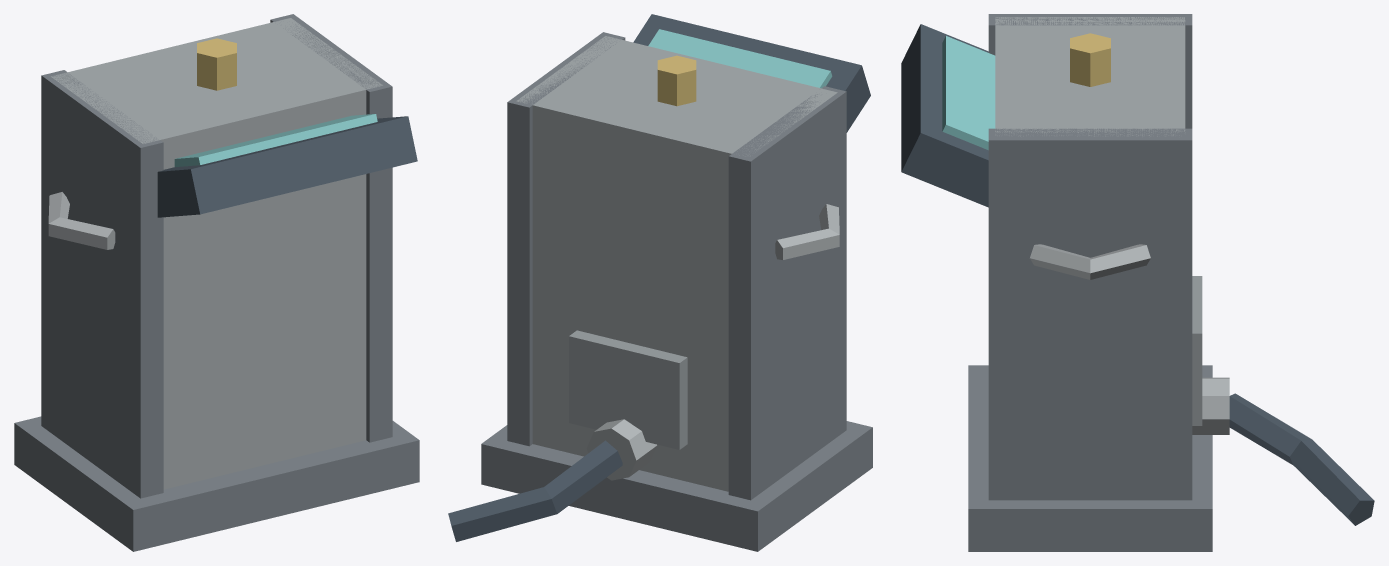
The picture shows the model from 3 angles, left to right: view 1: azimuth 30°, elevation 25°; view 2: azimuth 150°, elevation 25°; view 3: azimuth 270°, elevation 25°; orthographic projection. The views are drawn at different scales.
Visible parts, largest first — view 1: sea_data_terminal; view 2: sea_data_terminal; view 3: sea_data_terminal.
Part boxes in pixels (x1=…): sea_data_terminal: x1=14, y1=14, x2=419, y2=551; sea_data_terminal: x1=448, y1=14, x2=872, y2=551; sea_data_terminal: x1=901, y1=14, x2=1374, y2=551.
Bounding box in the file's own units: 1.18 × 1.42 × 1.39.
